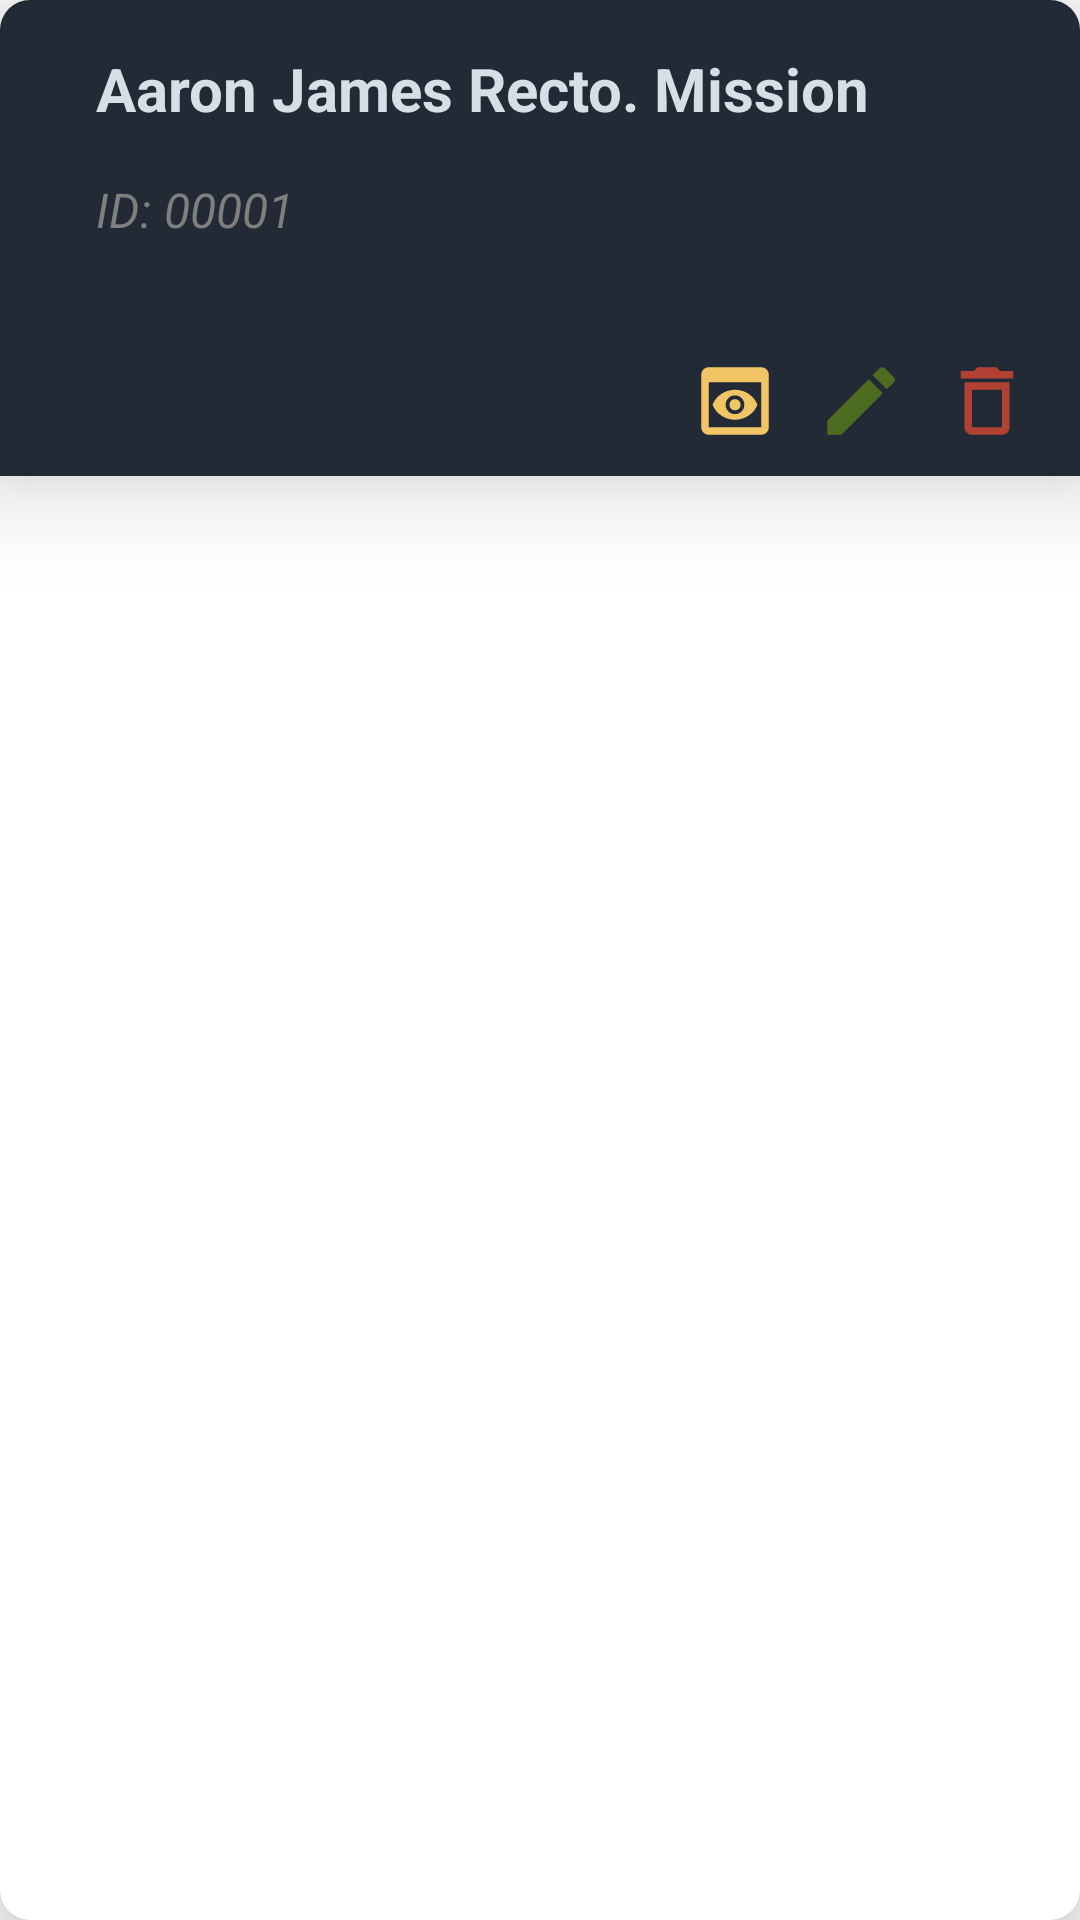

Icon click points for this 1080 x 1920 phone screenshot, format point (x, y):
delete: point (987, 401)
edit: point (861, 401)
